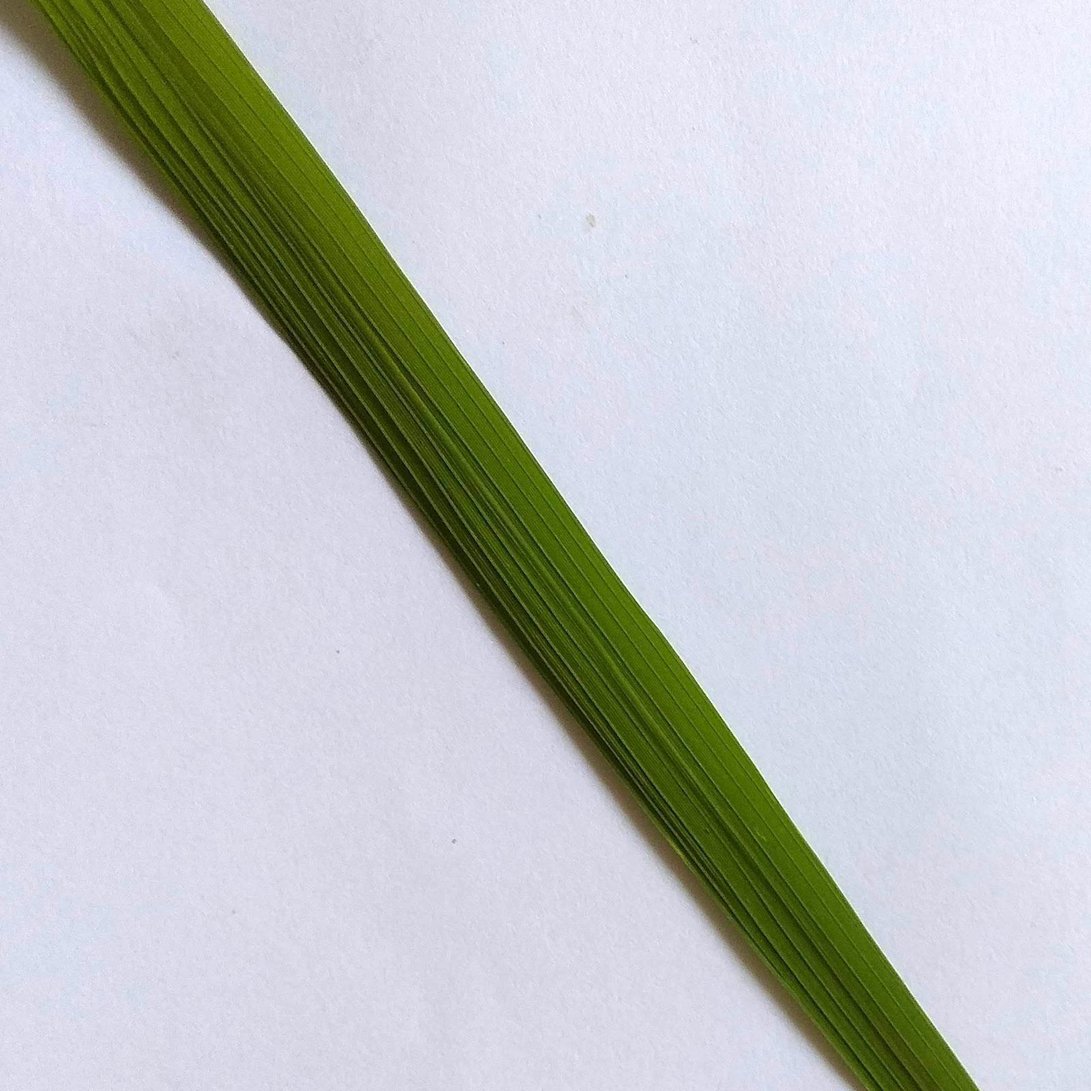Healthy: (35, 0, 976, 1090)
